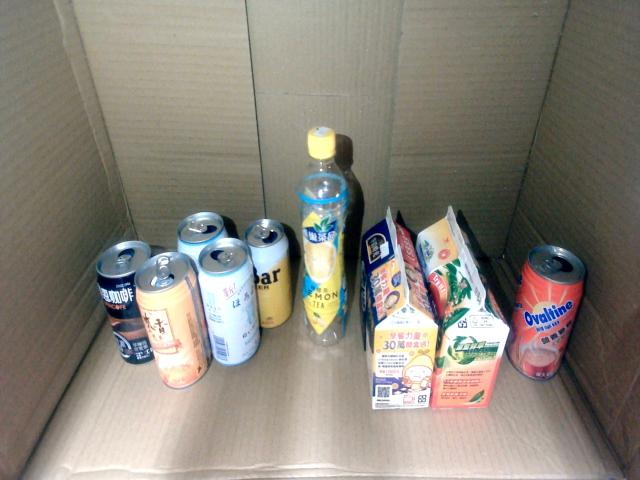Canned_drinks: (504, 244, 586, 381), (134, 250, 213, 391), (197, 237, 262, 366), (96, 239, 156, 365), (242, 218, 294, 329), (177, 211, 229, 275)
bottle: (297, 126, 349, 348)
